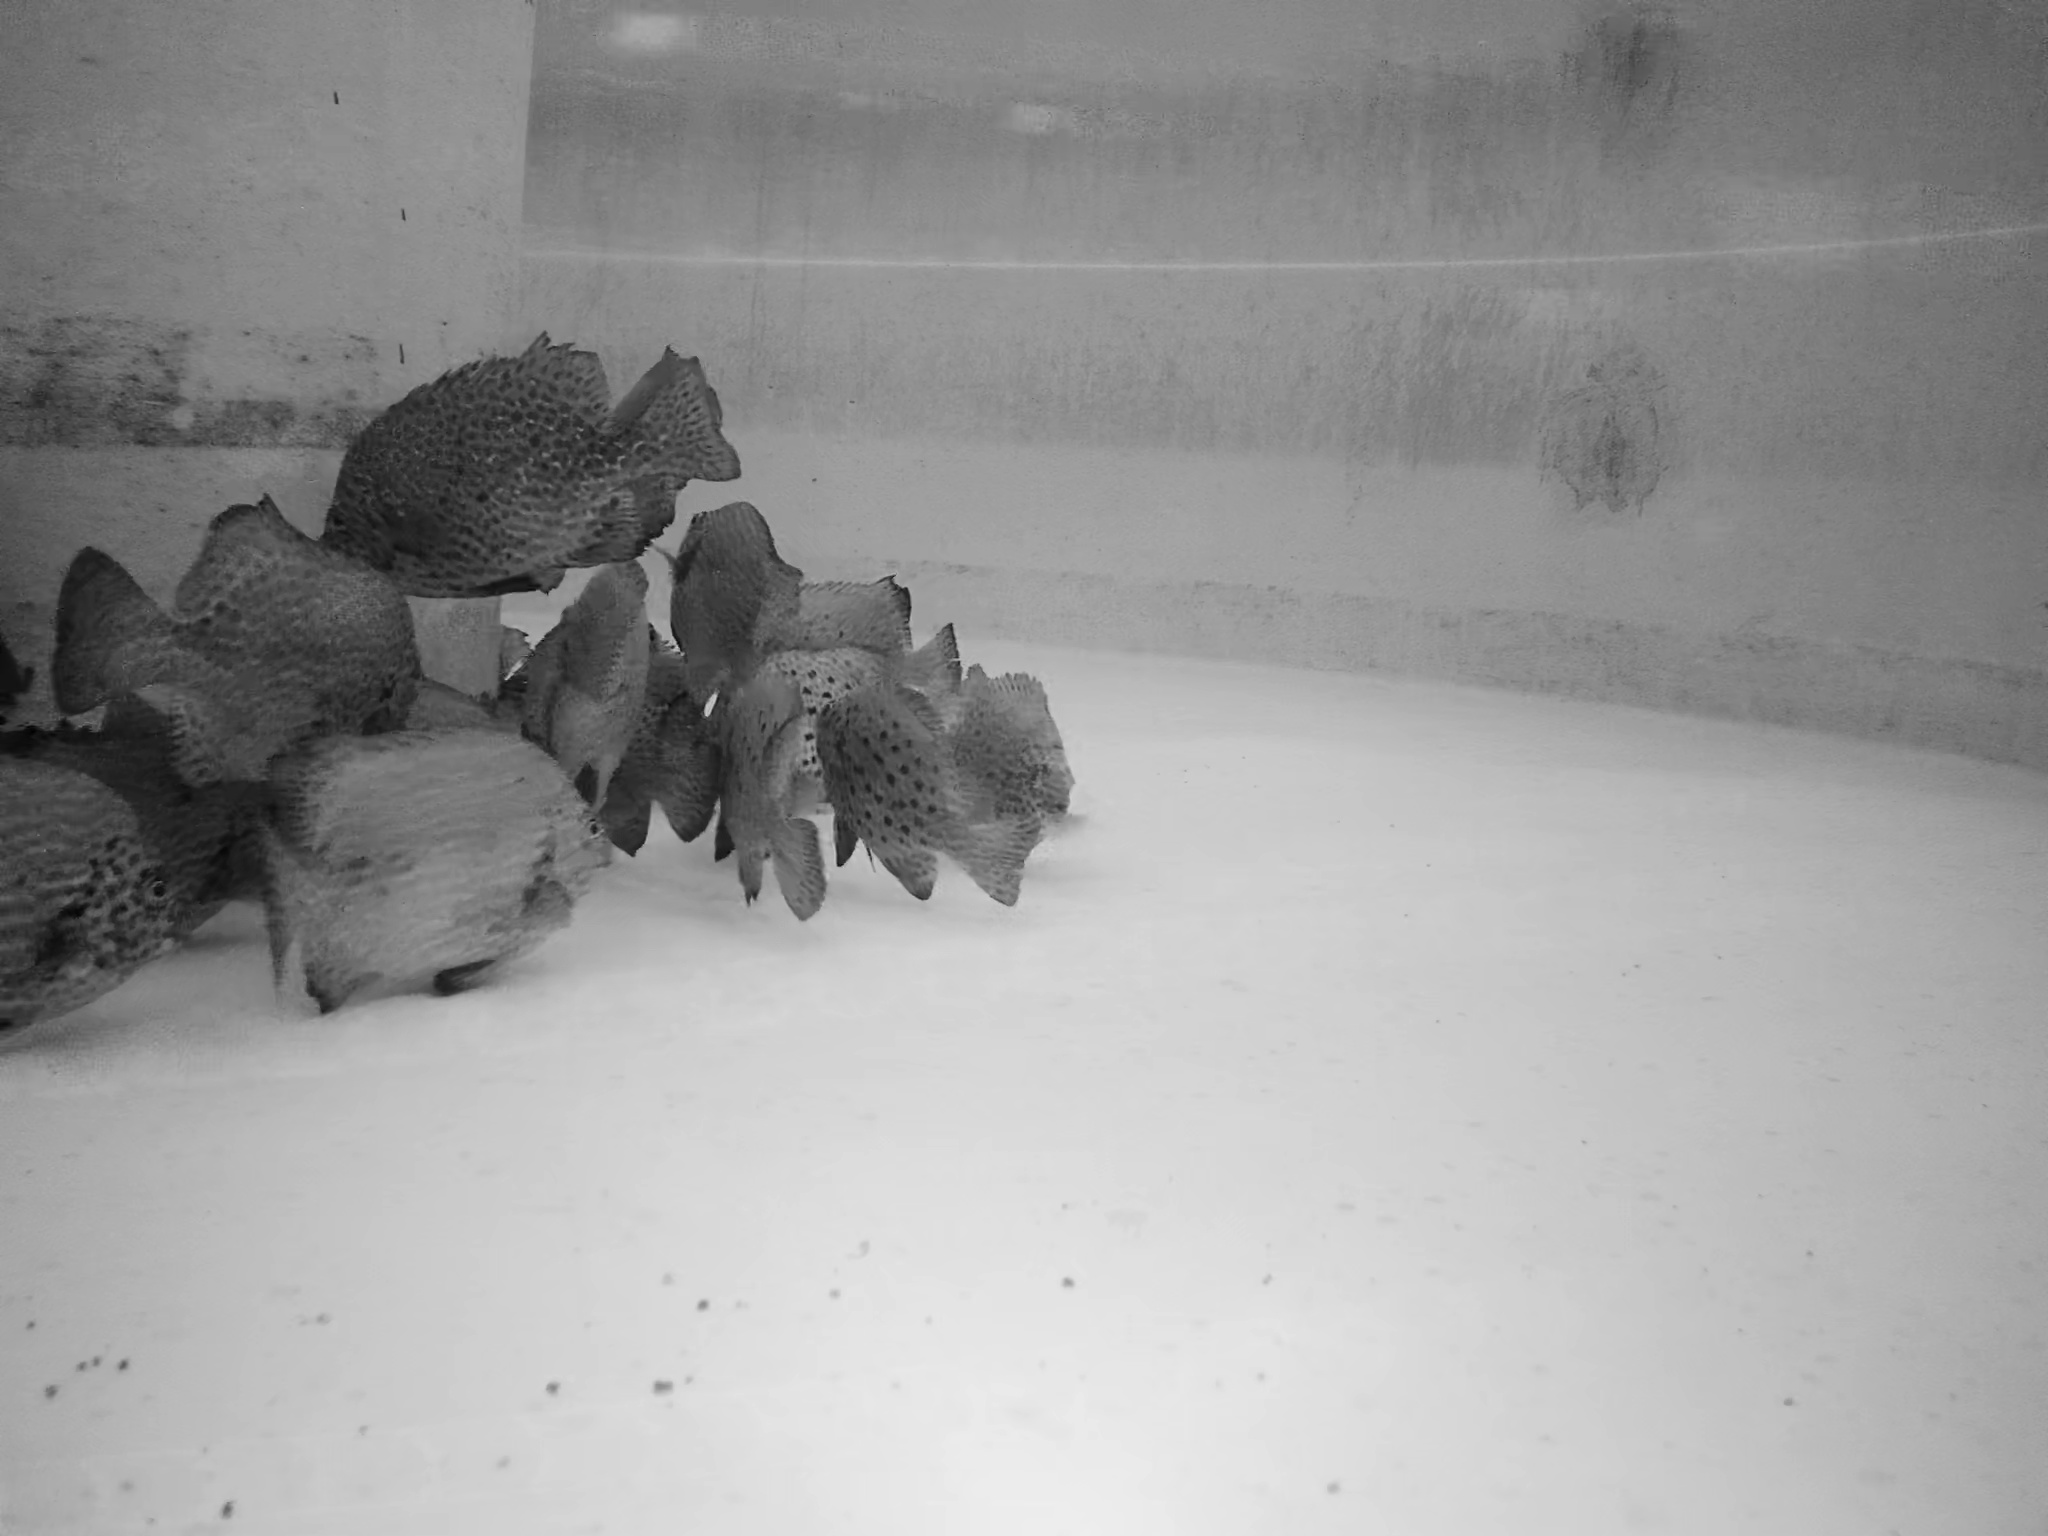fish: (52, 482, 426, 778), (323, 350, 745, 586), (269, 728, 614, 999), (2, 731, 216, 1037), (810, 668, 1040, 913), (714, 676, 826, 934), (760, 578, 968, 700), (540, 579, 663, 787), (943, 666, 1074, 839), (674, 510, 808, 671)
